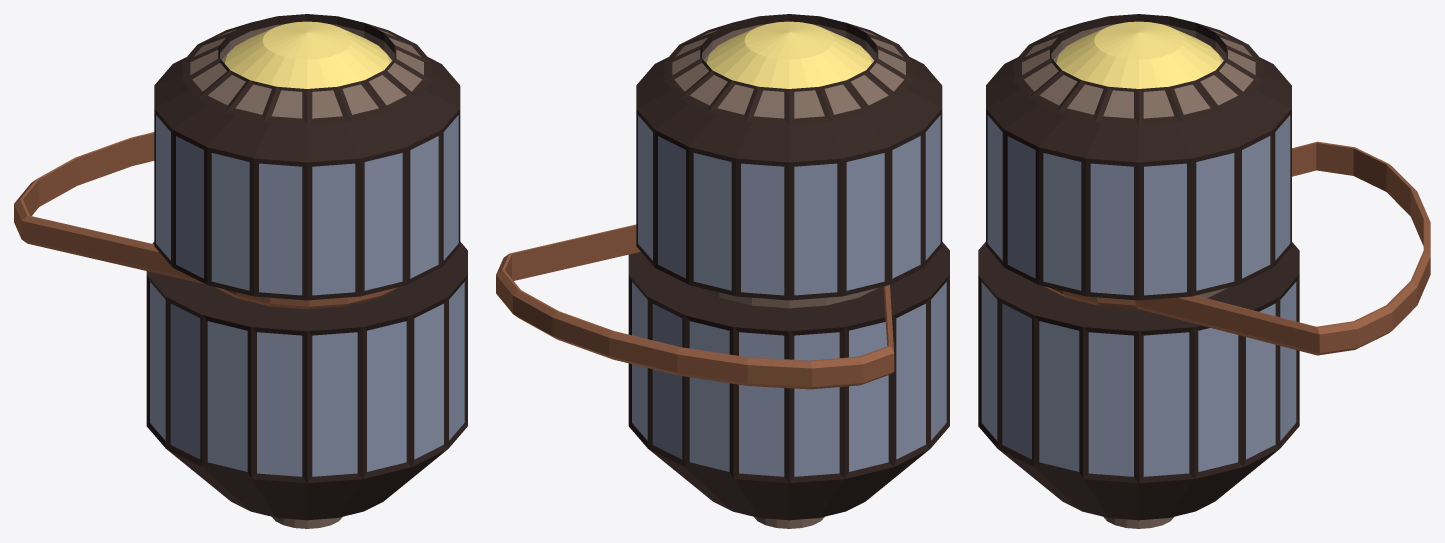
The model's file is Lamp.fbx.
The picture shows the model from 3 angles, left to right: view 1: azimuth 30°, elevation 25°; view 2: azimuth 150°, elevation 25°; view 3: azimuth 270°, elevation 25°; orthographic projection.
Visible parts, largest first — view 1: Light; view 2: Light; view 3: Light.
Boxes of the visible parts, <box> form: Light: <box>14,14,467,528</box>; Light: <box>496,14,949,528</box>; Light: <box>978,14,1430,528</box>.
Size of the model in its own units: 445 by 523 by 446.
